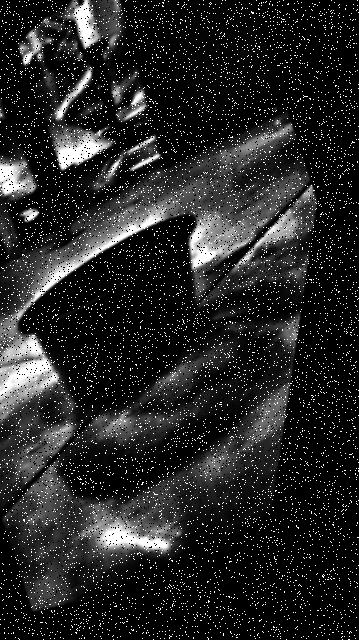pot: (20, 216, 194, 407)
